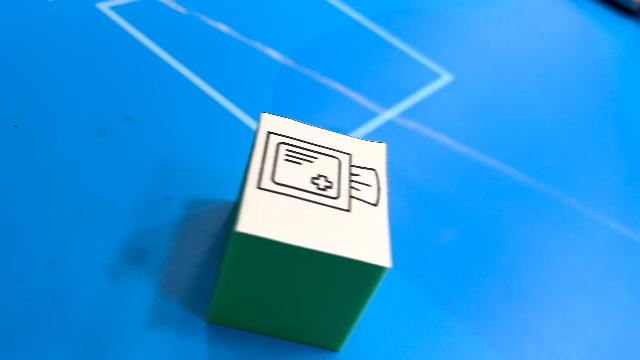napkin: (204, 110, 396, 352)
